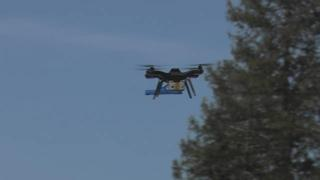UAV: (136, 64, 214, 100)
